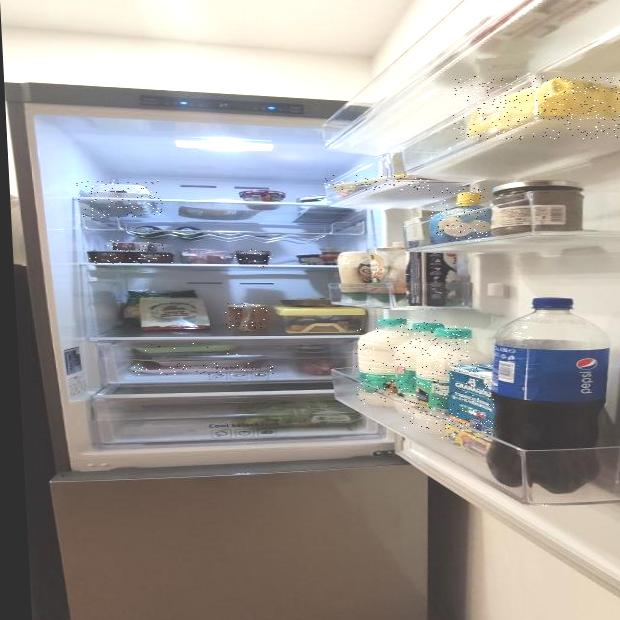butter: (451, 76, 620, 139), (324, 174, 429, 190)
cheese: (225, 303, 269, 333)
eggs: (76, 180, 163, 218)
lemon: (429, 188, 489, 242)
meat: (133, 363, 275, 375), (131, 343, 243, 355)
milk: (396, 319, 448, 432), (417, 326, 473, 422), (353, 317, 409, 407), (438, 362, 496, 438)
yoghurt: (86, 252, 175, 264), (107, 240, 167, 253), (234, 249, 272, 267)
